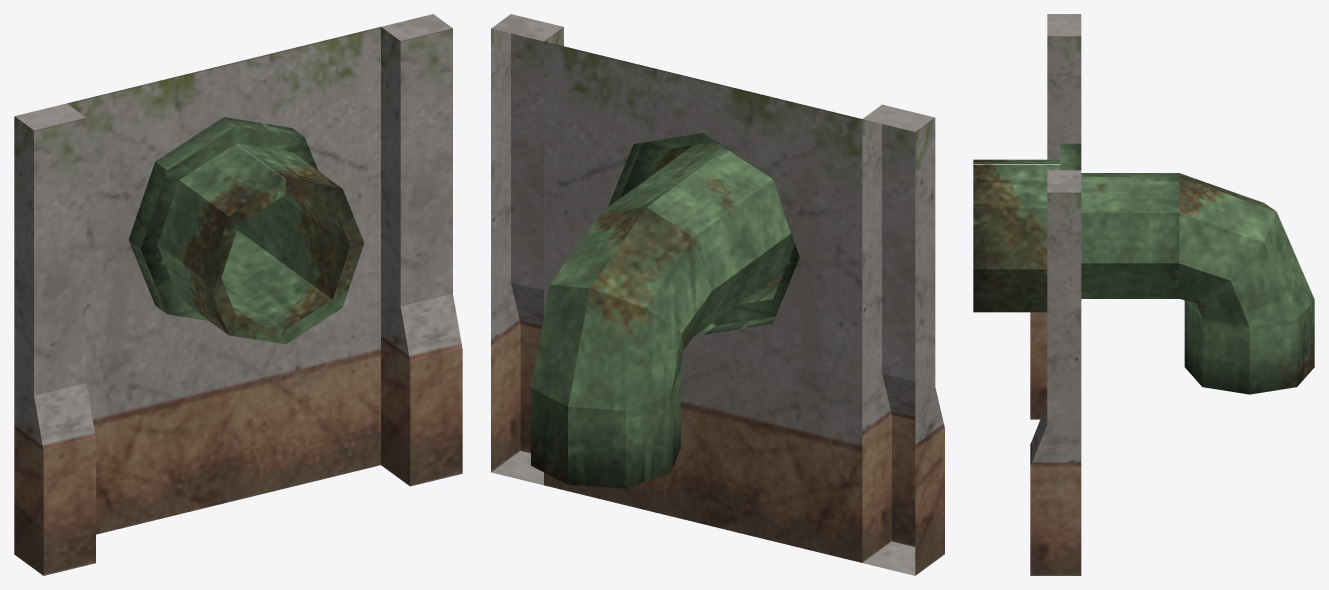
The model's file is MESH_ESGOTOINF_WALL_OUTPIPE.fbx.
3 views of the same model, side by side, from view 1: azimuth 30°, elevation 25°; view 2: azimuth 150°, elevation 25°; view 3: azimuth 270°, elevation 25° (orthographic). The views are drawn at different scales.
Parts seen in each view (by area): view 1: MESH_ESGOTOINF_WALL_OUTPIPE; view 2: MESH_ESGOTOINF_WALL_OUTPIPE; view 3: MESH_ESGOTOINF_WALL_OUTPIPE.
Part boxes in pixels (left/top/right/bottom): MESH_ESGOTOINF_WALL_OUTPIPE: left=14, top=14, right=462, bottom=575; MESH_ESGOTOINF_WALL_OUTPIPE: left=491, top=14, right=944, bottom=575; MESH_ESGOTOINF_WALL_OUTPIPE: left=973, top=14, right=1314, bottom=575.
Bounding box in the file's own units: 4 × 4 × 3.23.
